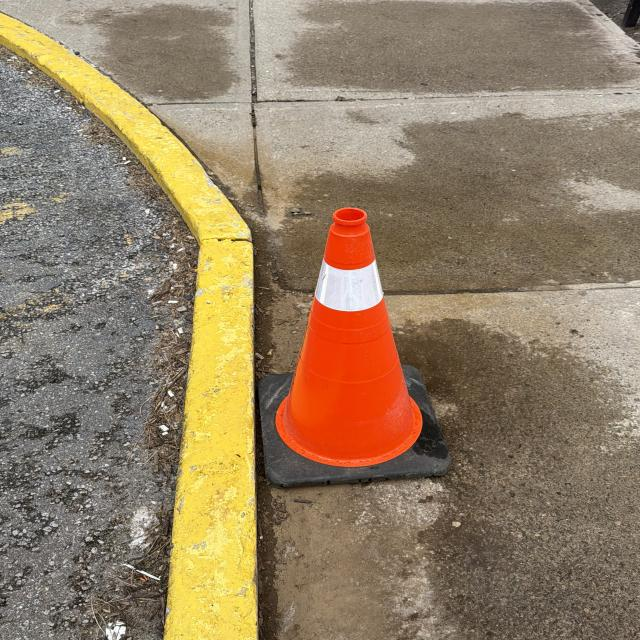Traffic Cone: (251, 208, 452, 486)
